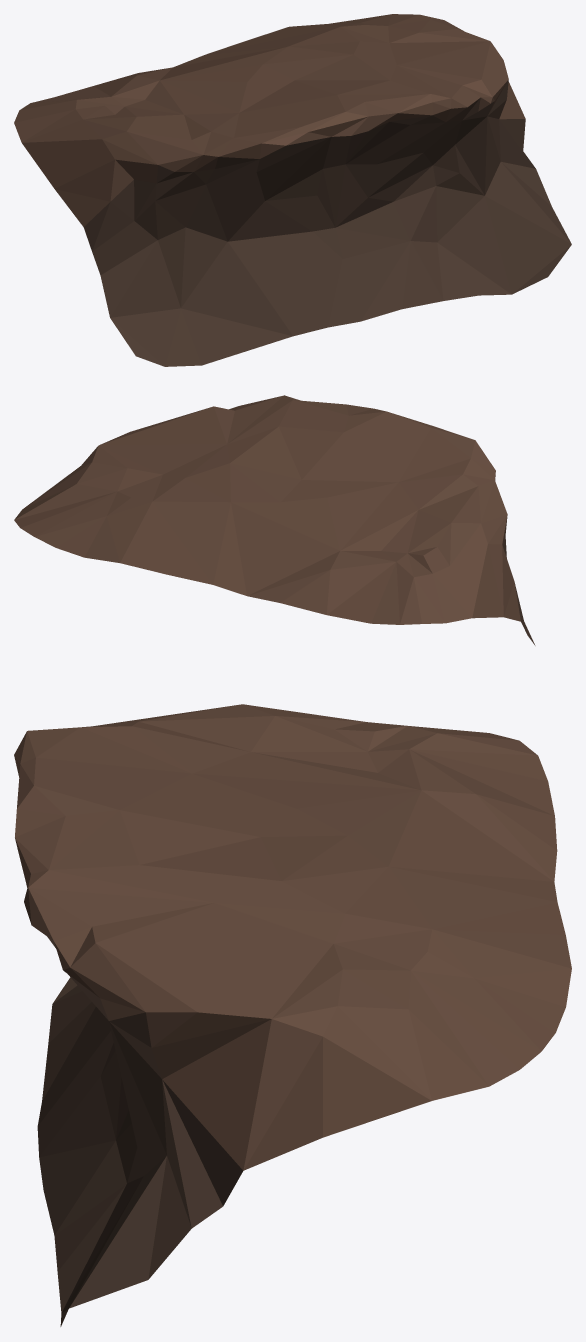
Rendered from synty-terrain-grassedge-02.gltf.
3 views of the same model, one above another, from view 1: azimuth 30°, elevation 25°; view 2: azimuth 150°, elevation 25°; view 3: azimuth 270°, elevation 25° (orthographic). The views are drawn at different scales.
Visible parts, largest first — view 1: SM_Terrain_GrassEdge_02; view 2: SM_Terrain_GrassEdge_02; view 3: SM_Terrain_GrassEdge_02.
Part boxes in pixels (<box>): SM_Terrain_GrassEdge_02: <box>14,14,571,366</box>; SM_Terrain_GrassEdge_02: <box>14,395,535,645</box>; SM_Terrain_GrassEdge_02: <box>14,704,571,1326</box>.
Size of the model in its own units: 6.49 by 3.18 by 4.16.
1 material, 1 textured.
